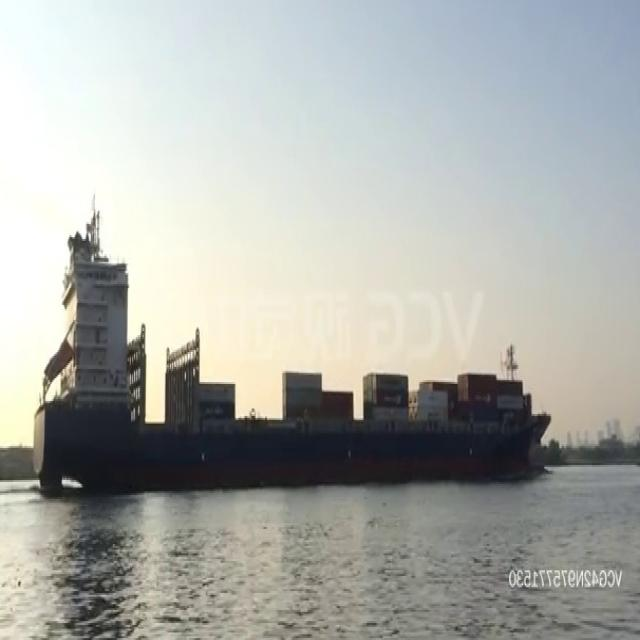cargoship: (40, 266, 537, 502)
